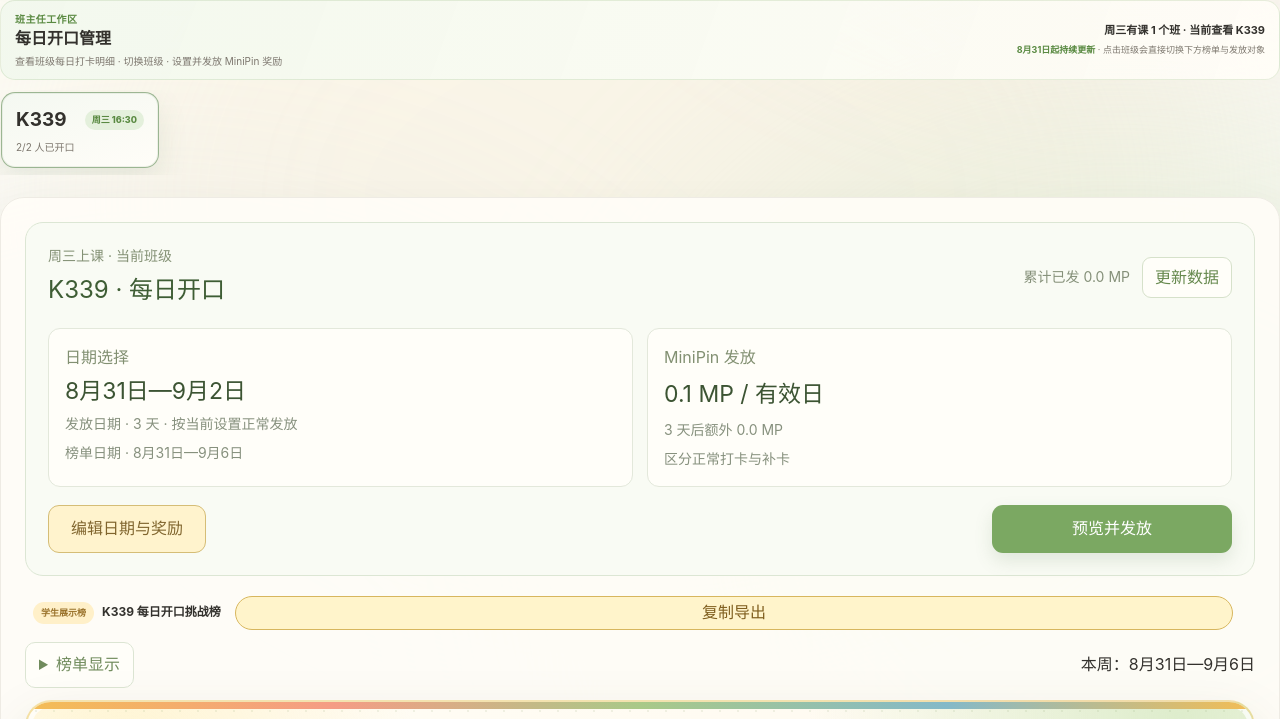
Test: SpeakingChallengeApp › requires an explicit checklist confirmation before issuing MiniPin
This screenshot has width=1280, height=719.
Click the button "预览并发放" at (1112, 529), box [992,505,1232,553]
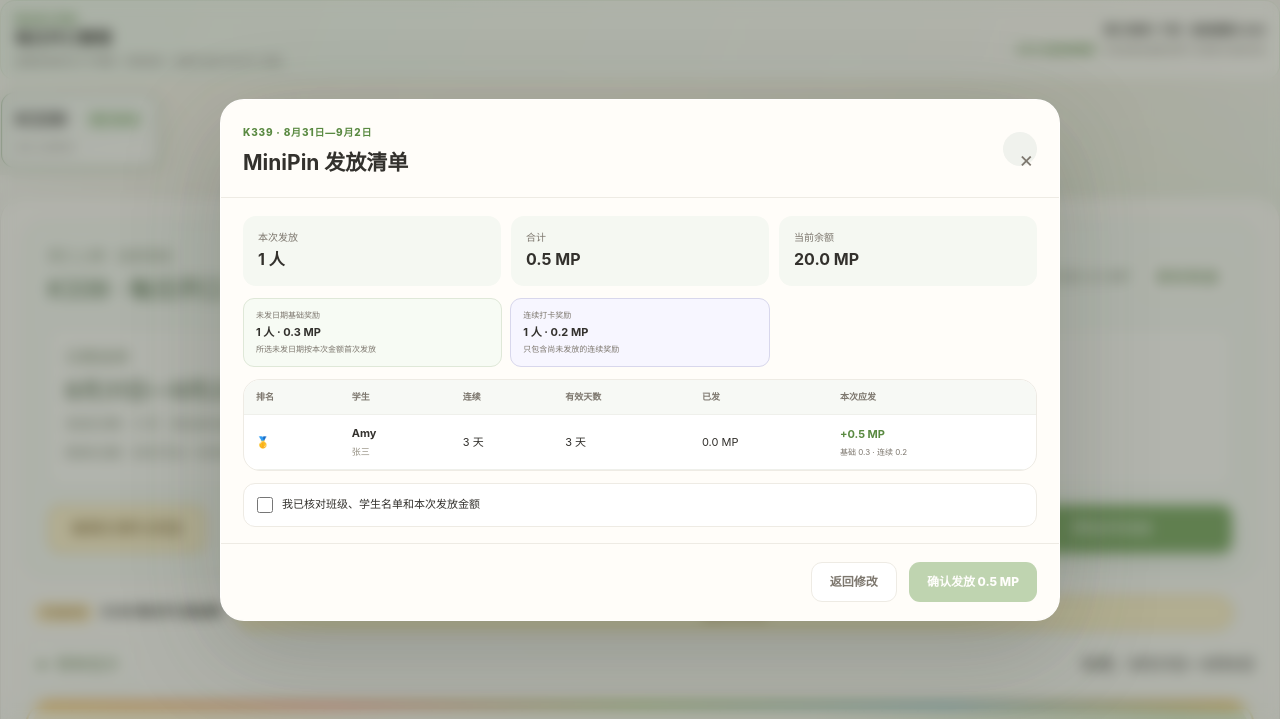
Result: the dialog is shown at [220,99,1060,621]
Result: the button "确认发放 0.5 MP" is disabled at [909,562,1037,602]
Click the checkbox labelled "我已核对班级、学生名单和本次发放金额" at (265, 505), box [257,497,273,513]
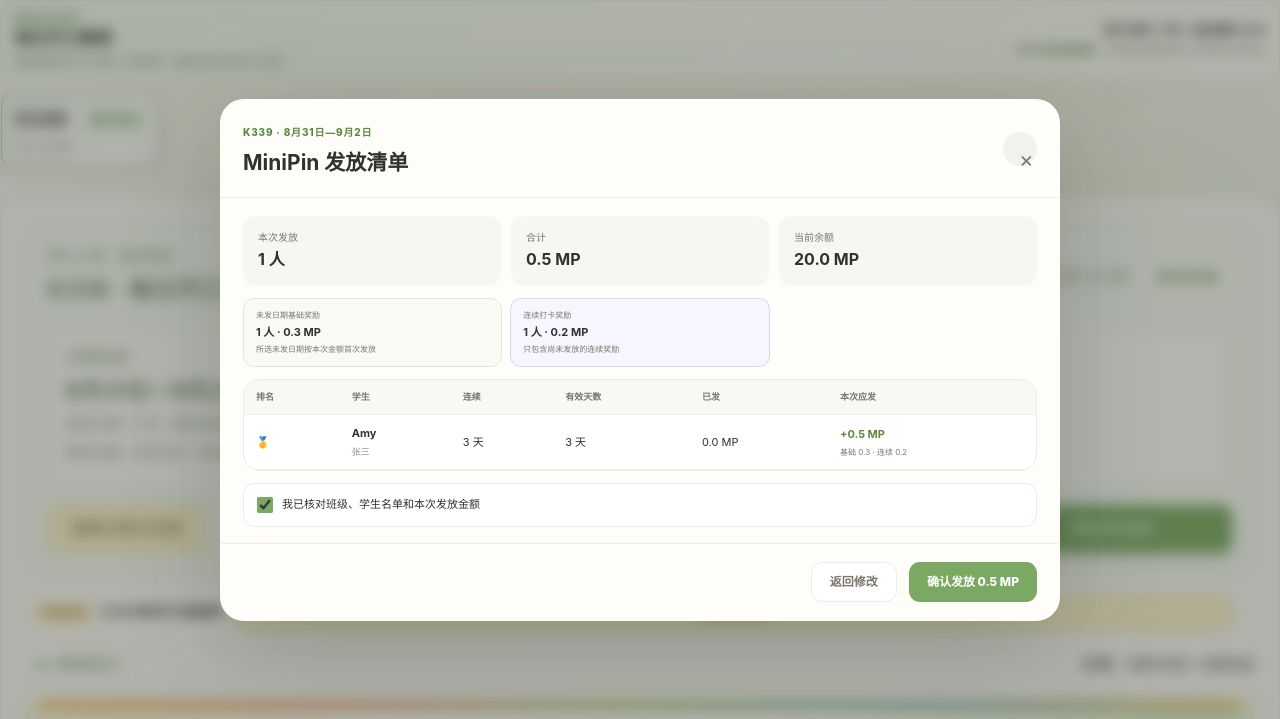
Result: the button "确认发放 0.5 MP" is enabled
Click the button "确认发放 0.5 MP" at (973, 582), box [909,562,1037,602]
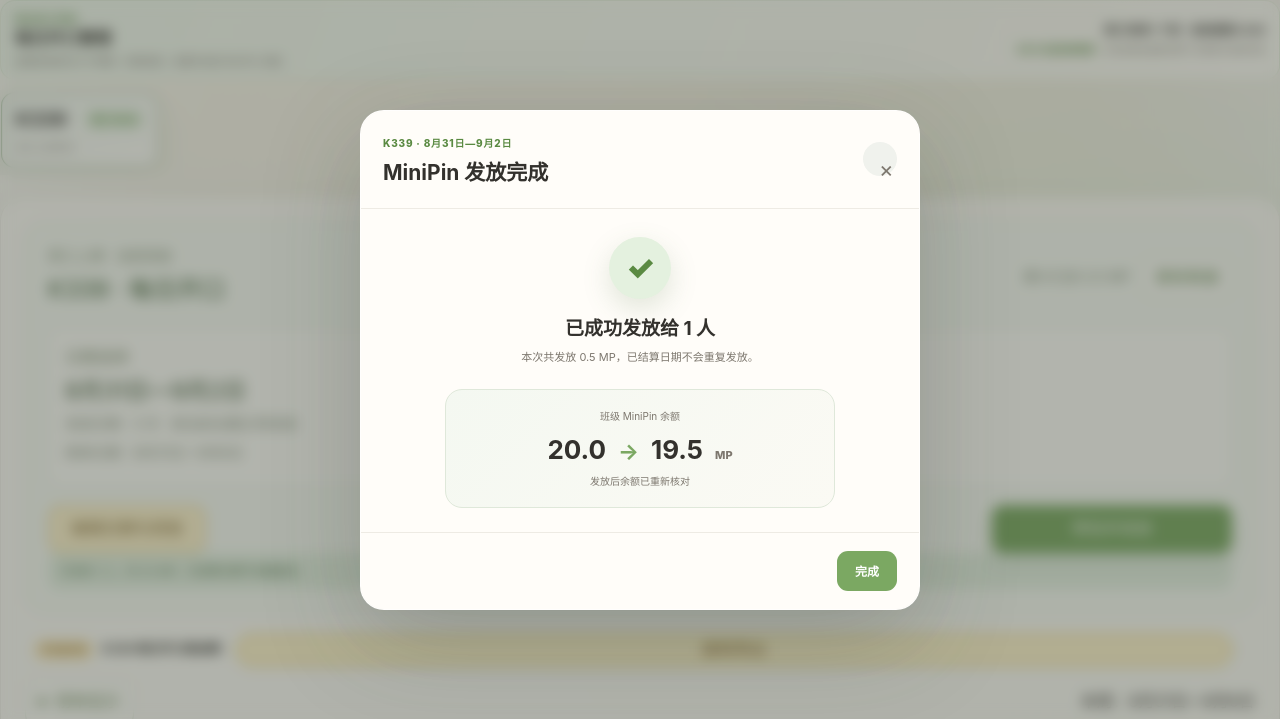
Result: the dialog with class "speaking-challenge__receipt" shows "K339" at [383,137,413,149]
Result: the heading with id "speaking-receipt-title" reads "MiniPin 发放完成" at [383,160,548,185]
Result: the dialog with class "speaking-challenge__receipt" shows "已成功发放给 1 人" at [360,110,920,610]
